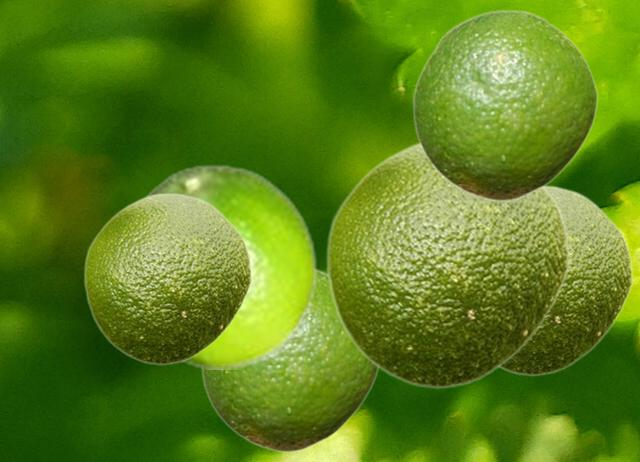calamansi: (325, 141, 569, 389), (138, 163, 317, 368), (412, 9, 597, 201), (200, 268, 380, 452), (83, 192, 251, 365), (500, 185, 632, 376)
